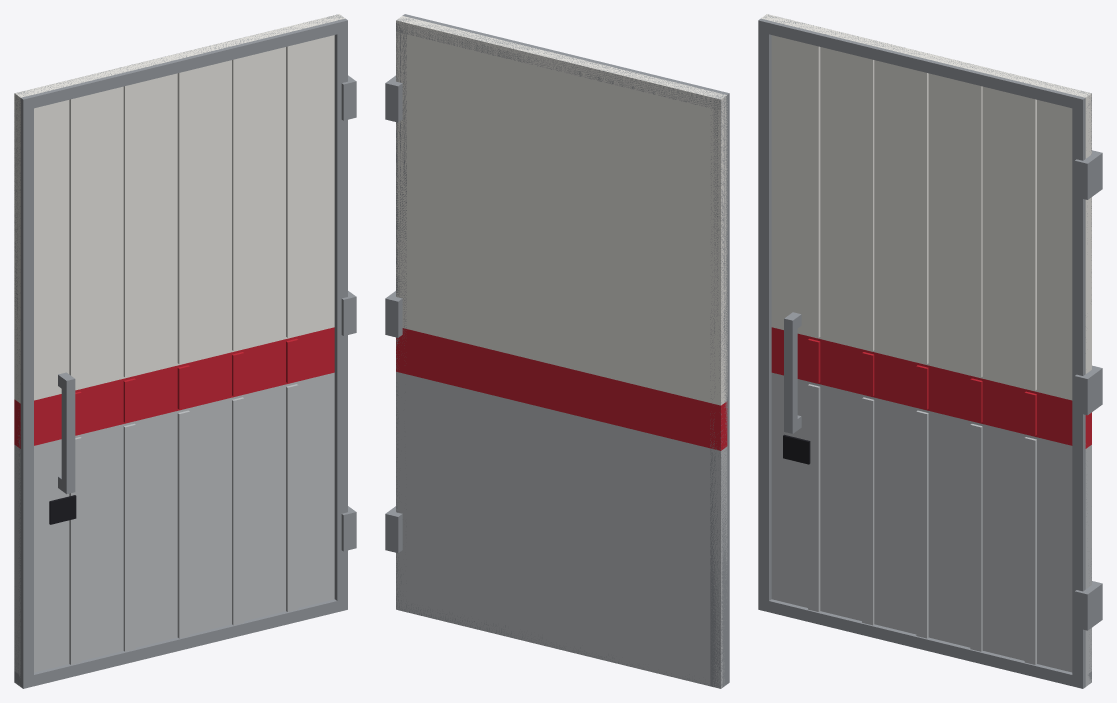
The model's file is Puerta_batiente_B.obj.
3 views of the same model, side by side, from view 1: azimuth 30°, elevation 25°; view 2: azimuth 150°, elevation 25°; view 3: azimuth 330°, elevation 25° (orthographic).
Parts seen in each view (by area): view 1: Puerta_batiente_B; view 2: Puerta_batiente_B; view 3: Puerta_batiente_B.
Boxes of the visible parts, x1,y1,x2,y2 form: Puerta_batiente_B: (14,14,356,688); Puerta_batiente_B: (385,14,729,688); Puerta_batiente_B: (758,14,1102,688).
Size of the model in its own units: 1.53 by 2.6 by 0.175.
5 materials, 5 textured.
